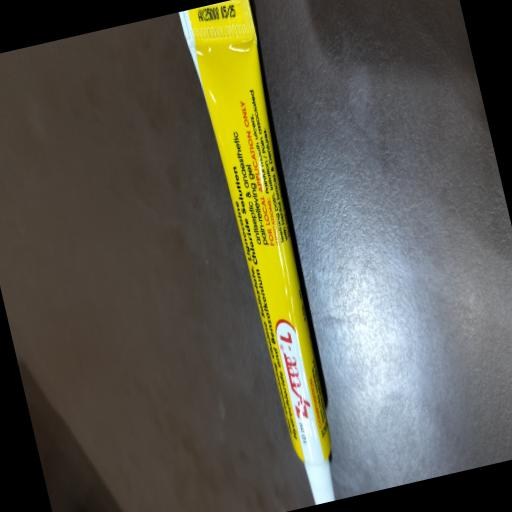Zytee-L: (272, 318, 318, 436)
medicine: (188, 0, 342, 507)
